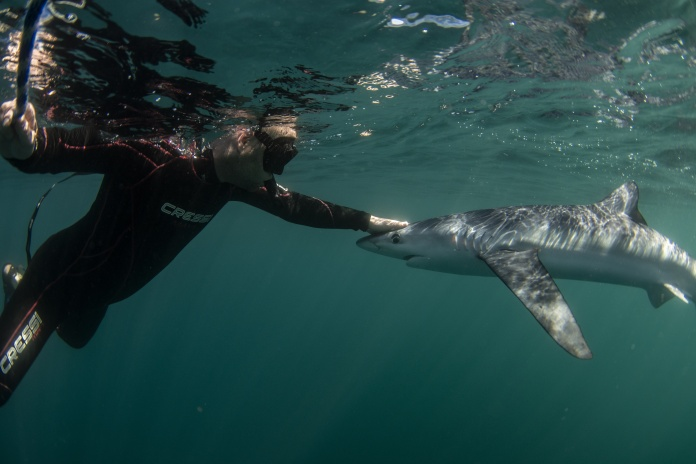Azul: (333, 166, 696, 365)
